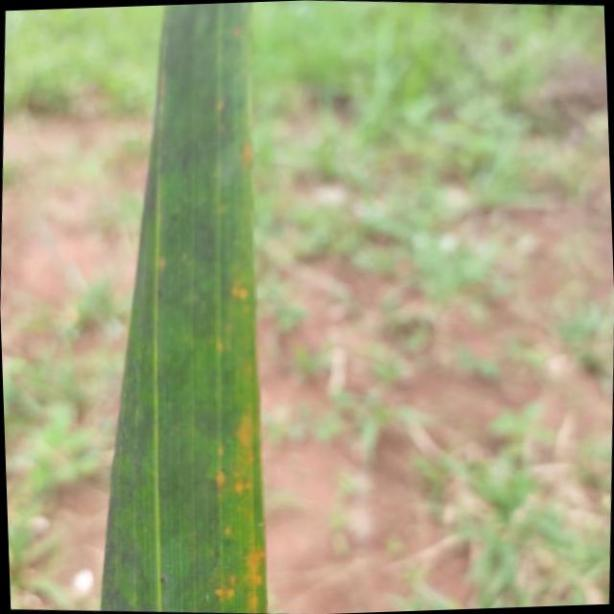Kalium: (107, 5, 264, 614)
